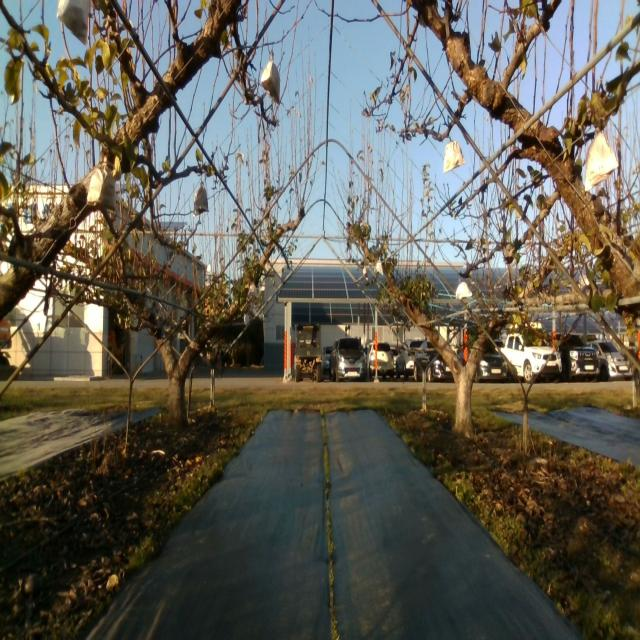pearbags: (584, 129, 620, 191), (86, 152, 115, 209), (56, 0, 91, 45), (260, 50, 281, 102), (443, 136, 466, 174), (193, 180, 209, 217), (456, 278, 472, 301)
